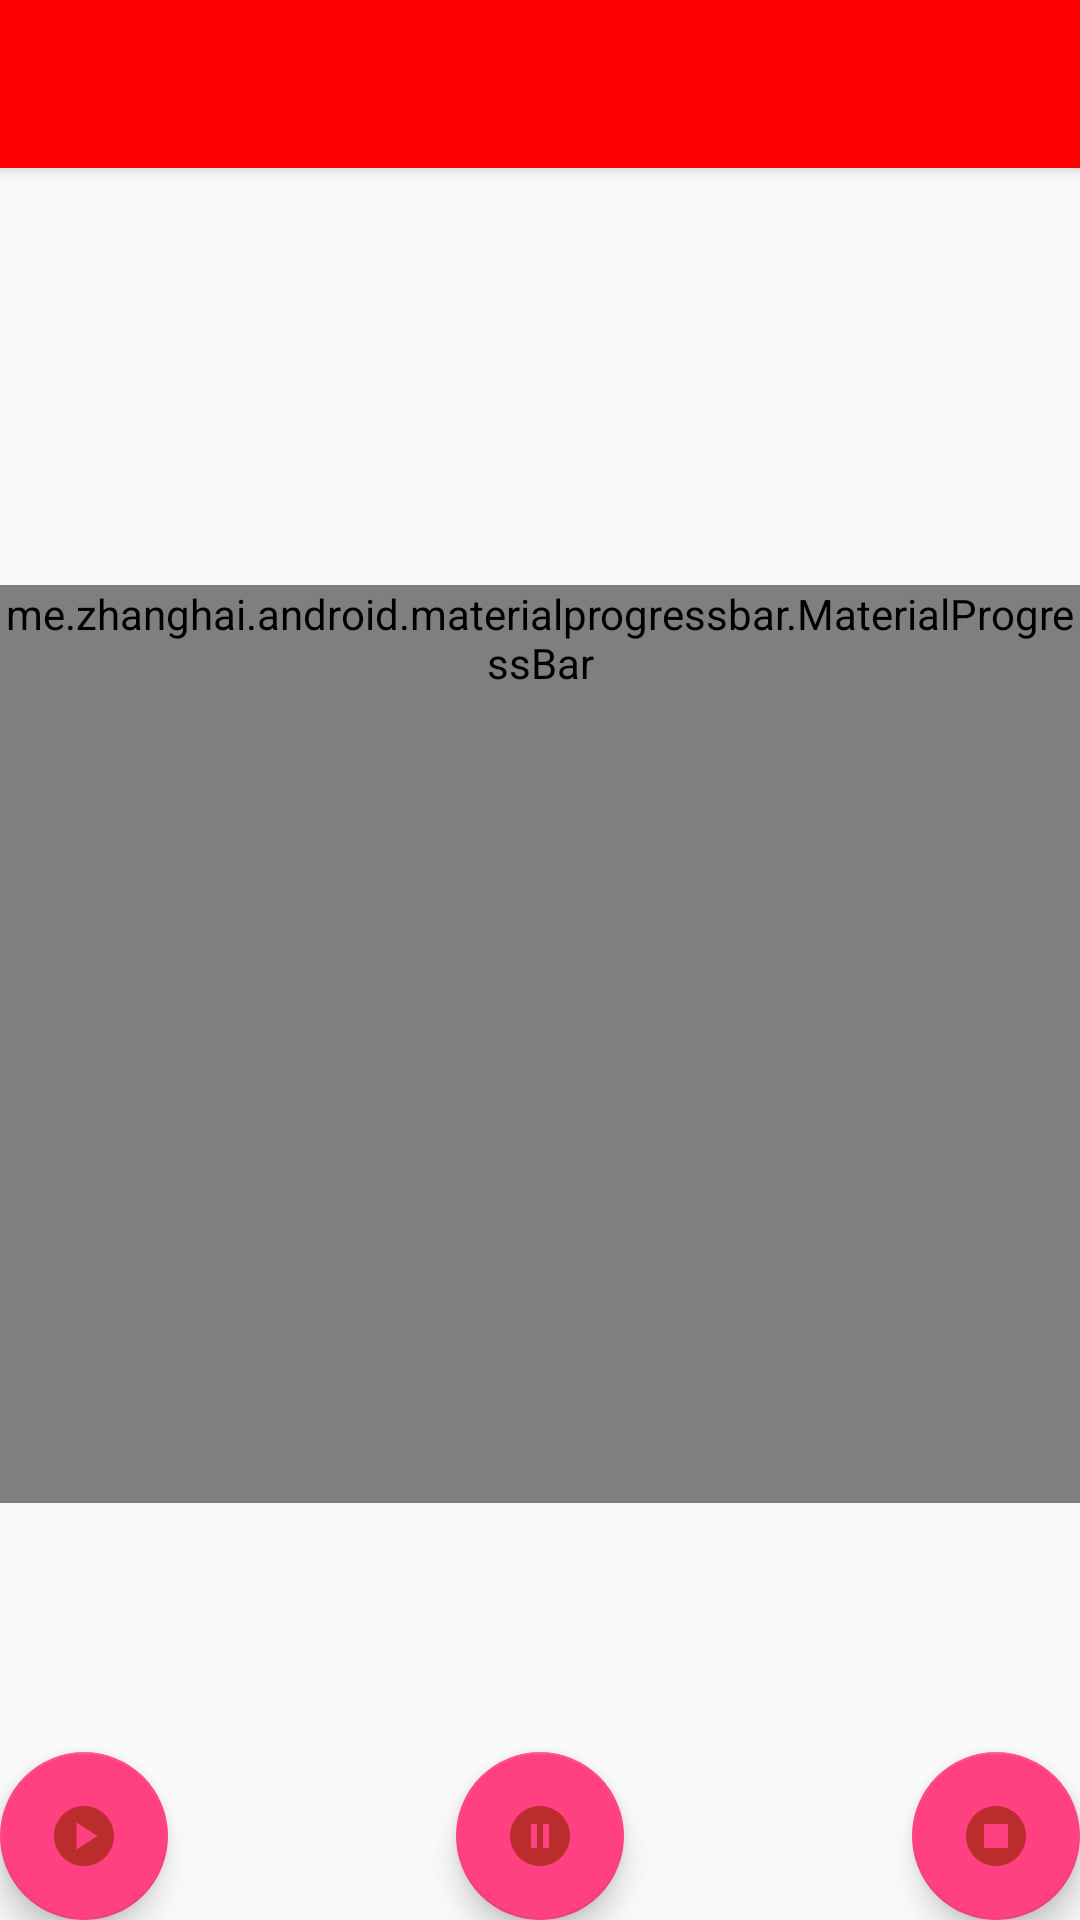

Point at icon controls on the screen. Image size 1080 x 1920, points as (x,y).
pause: (540,1836)
play: (84,1836)
stop: (996,1836)
